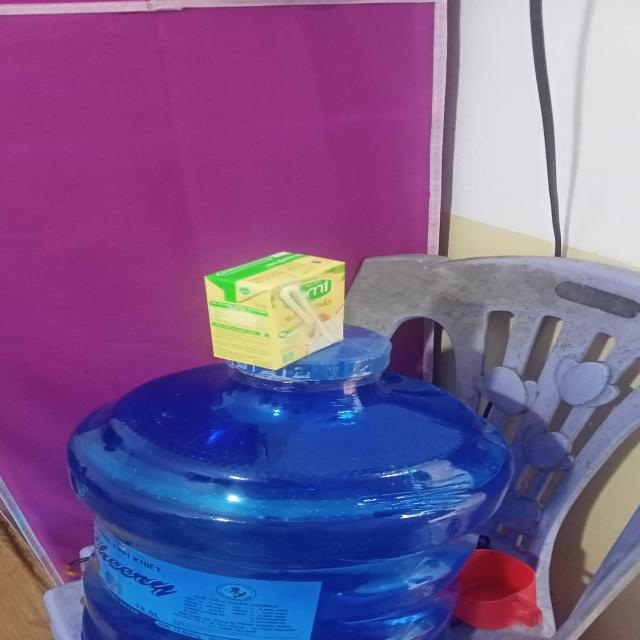Fami: (208, 251, 344, 372)
